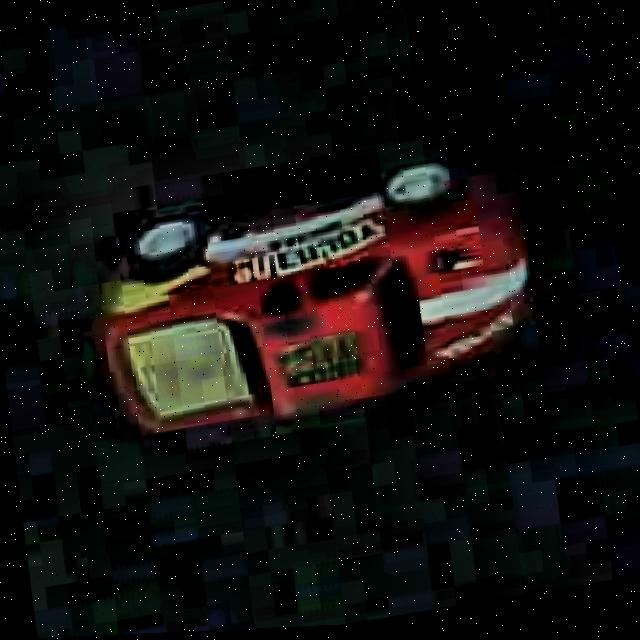car: (79, 136, 544, 453)
